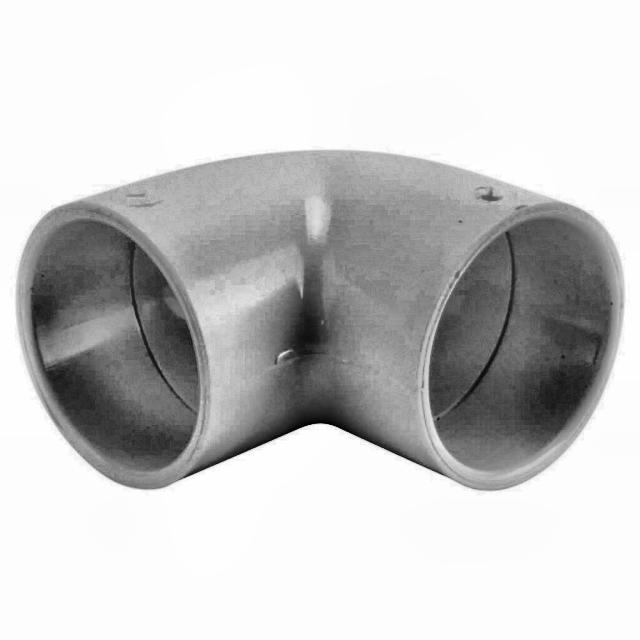ELBOW90: (14, 148, 628, 495)
